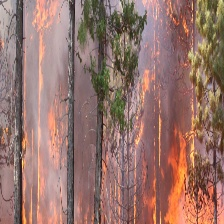fire: (142, 1, 213, 223), (18, 2, 65, 223)
